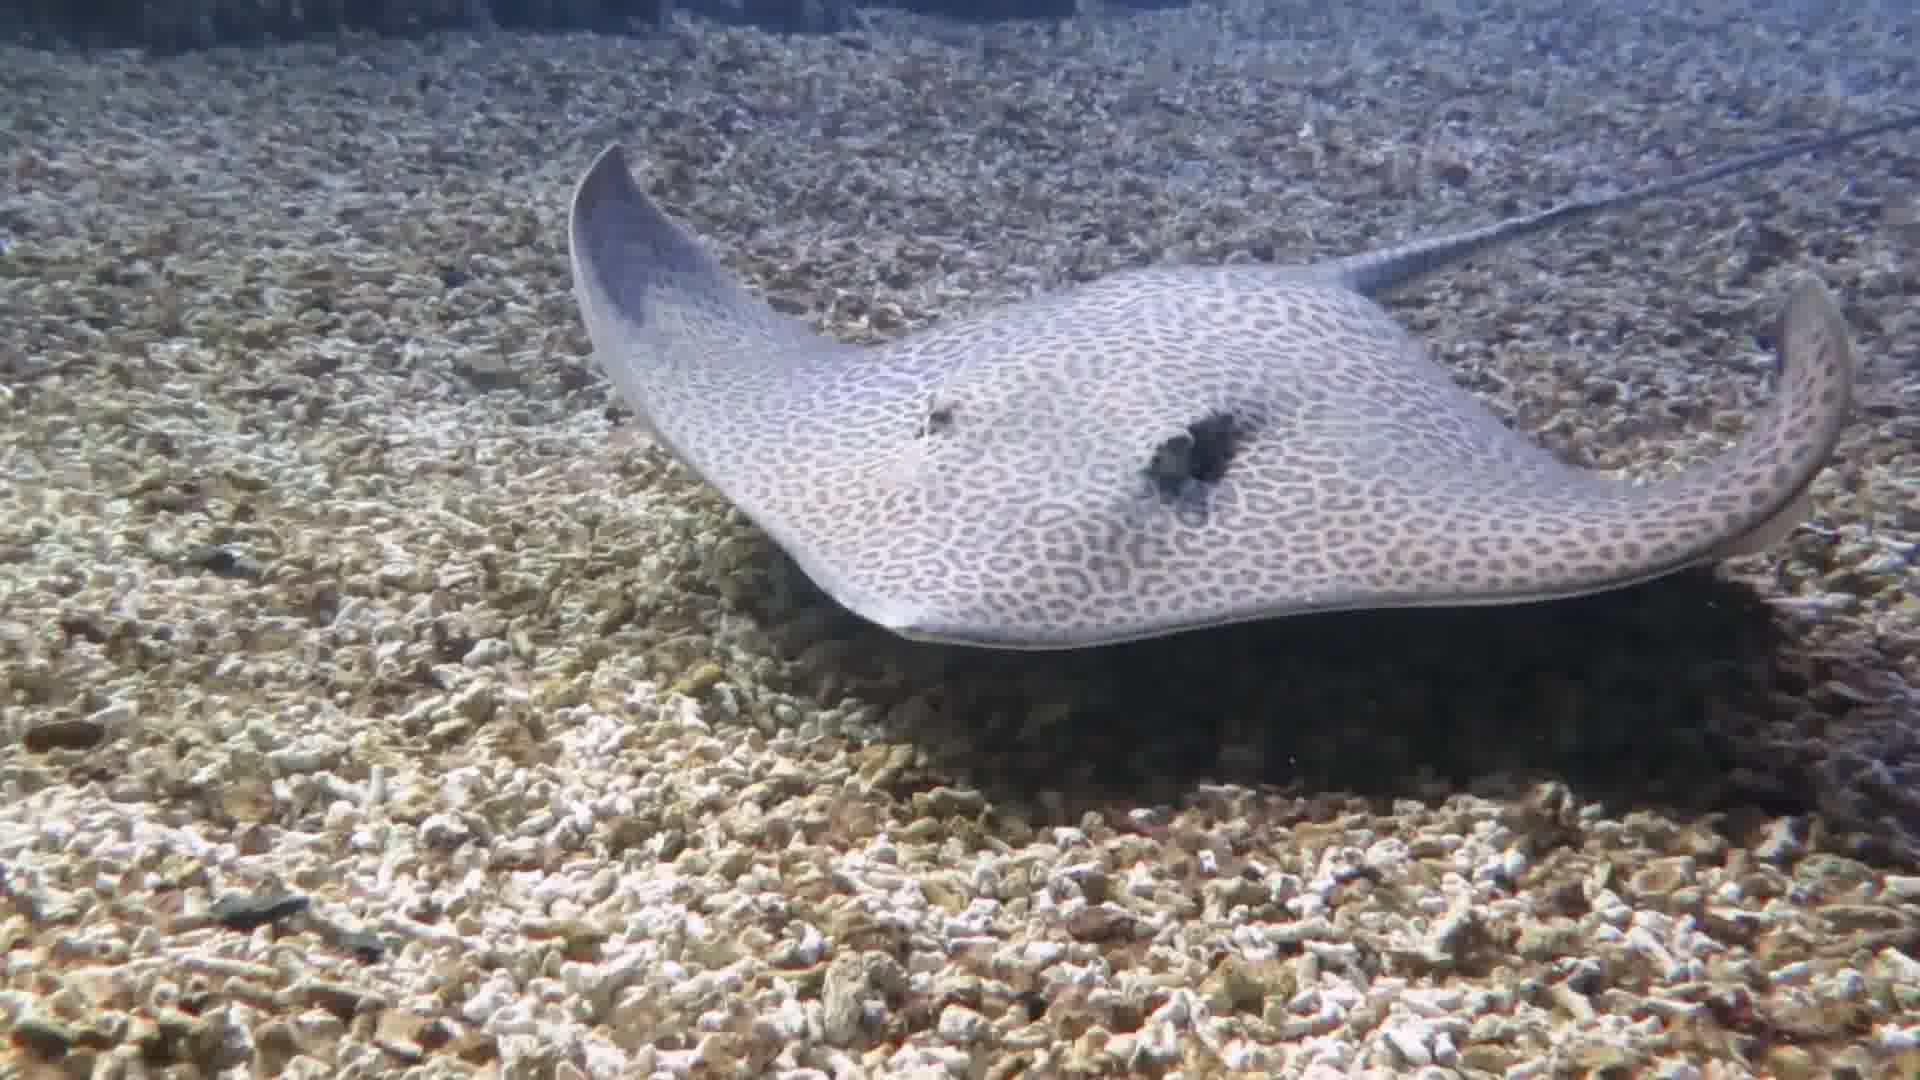Himantura uarnak: (513, 92, 1917, 663)
